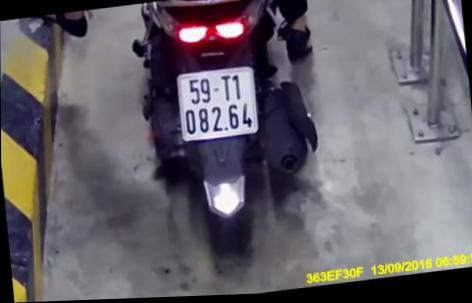LP: (177, 66, 260, 143)
